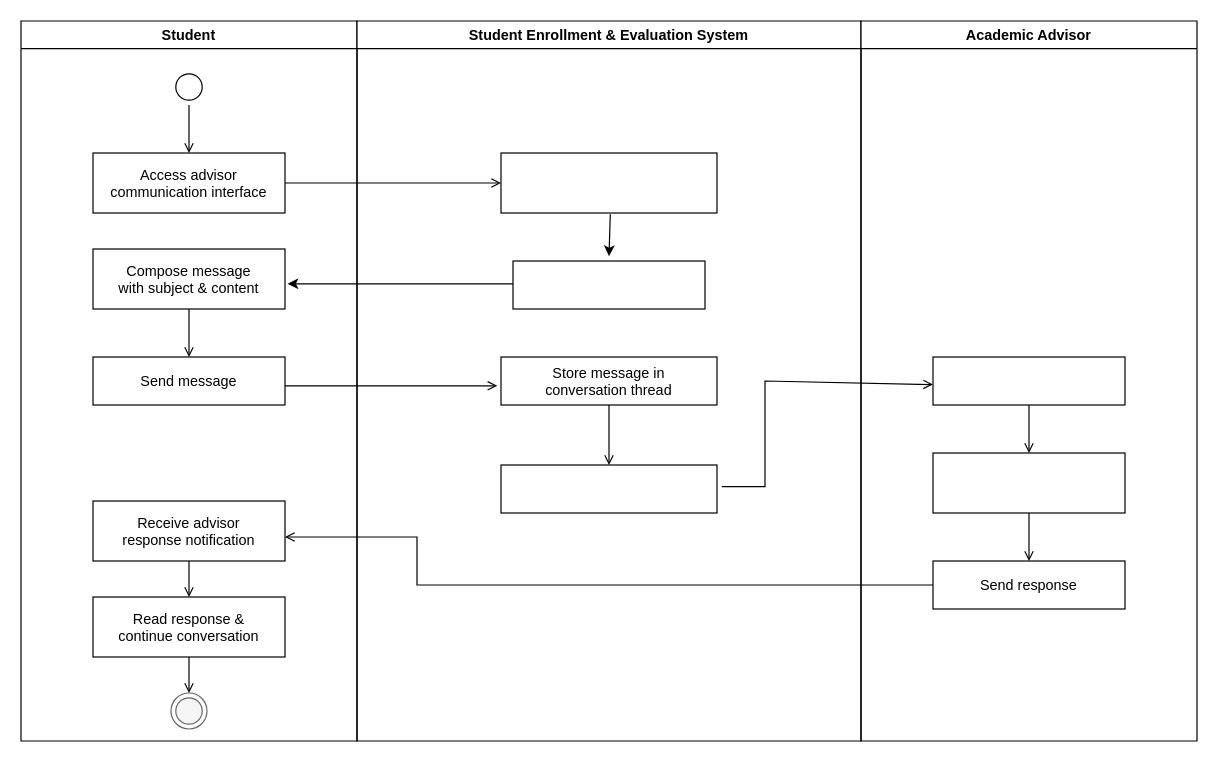
This 1218x762 diagram has some shape labels left out. Here are the shapes that lost their labels. From the top down, the centre of each, then its label:
At [608,182]: "Load message history & advisor contact info".
At [608,284]: "Display chat".
At [1028,380]: "Receive message notification".
At [608,488]: "Send notification to advisor".
At [1028,482]: "Review message & compose response".
